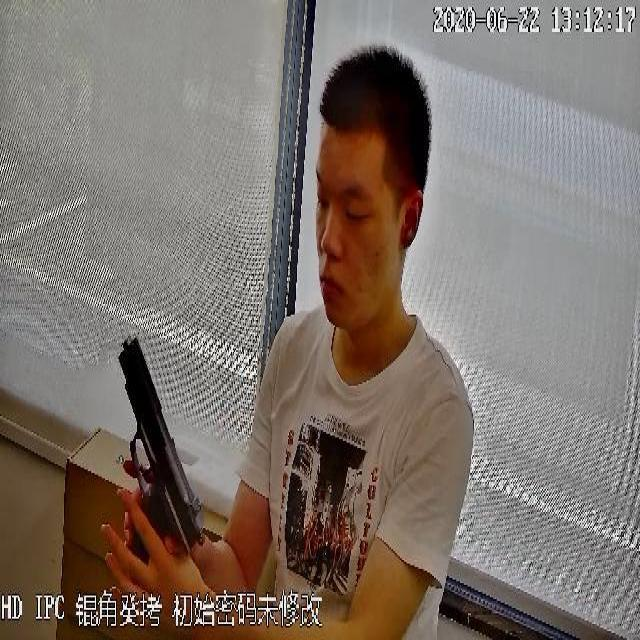pistol: (107, 333, 208, 554)
